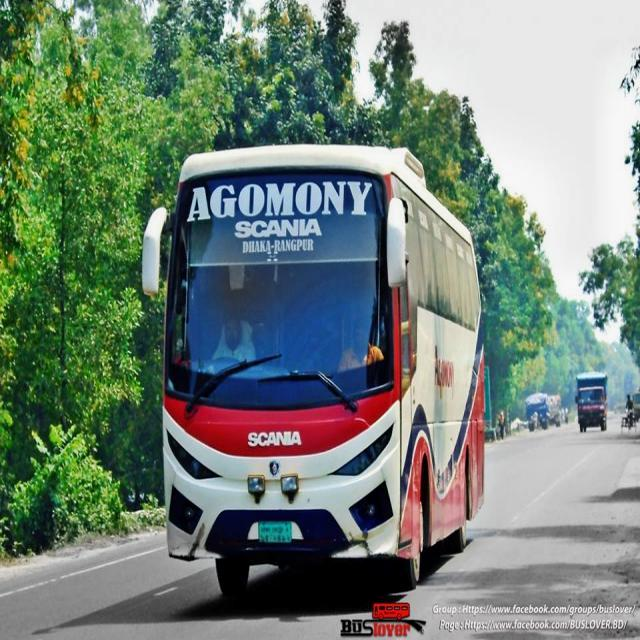bus: (143, 143, 487, 598)
